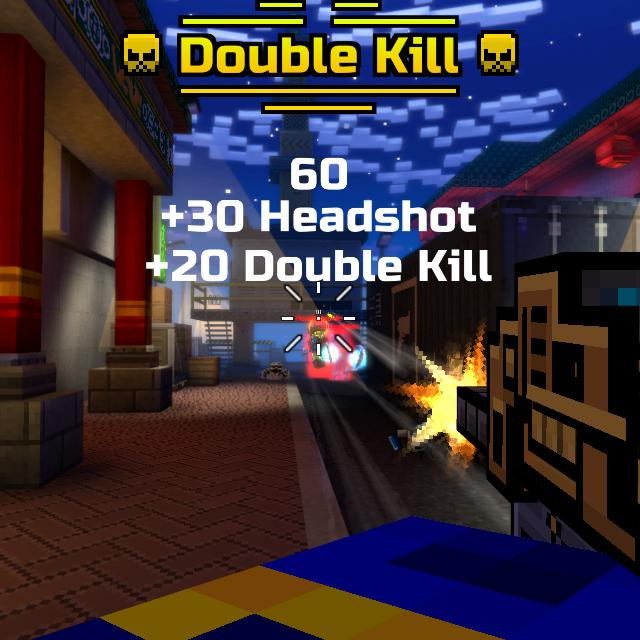Enemy: (314, 328, 352, 380), (308, 324, 330, 370)
